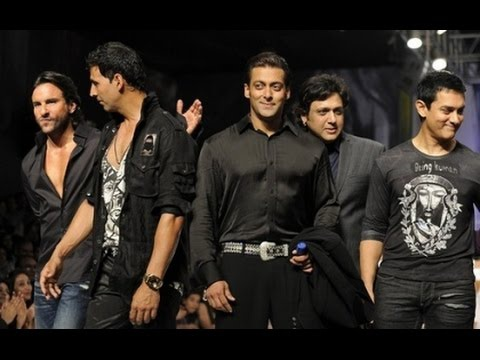bad: (247, 74, 290, 118), (429, 94, 472, 137), (309, 94, 352, 137), (21, 89, 64, 132)
